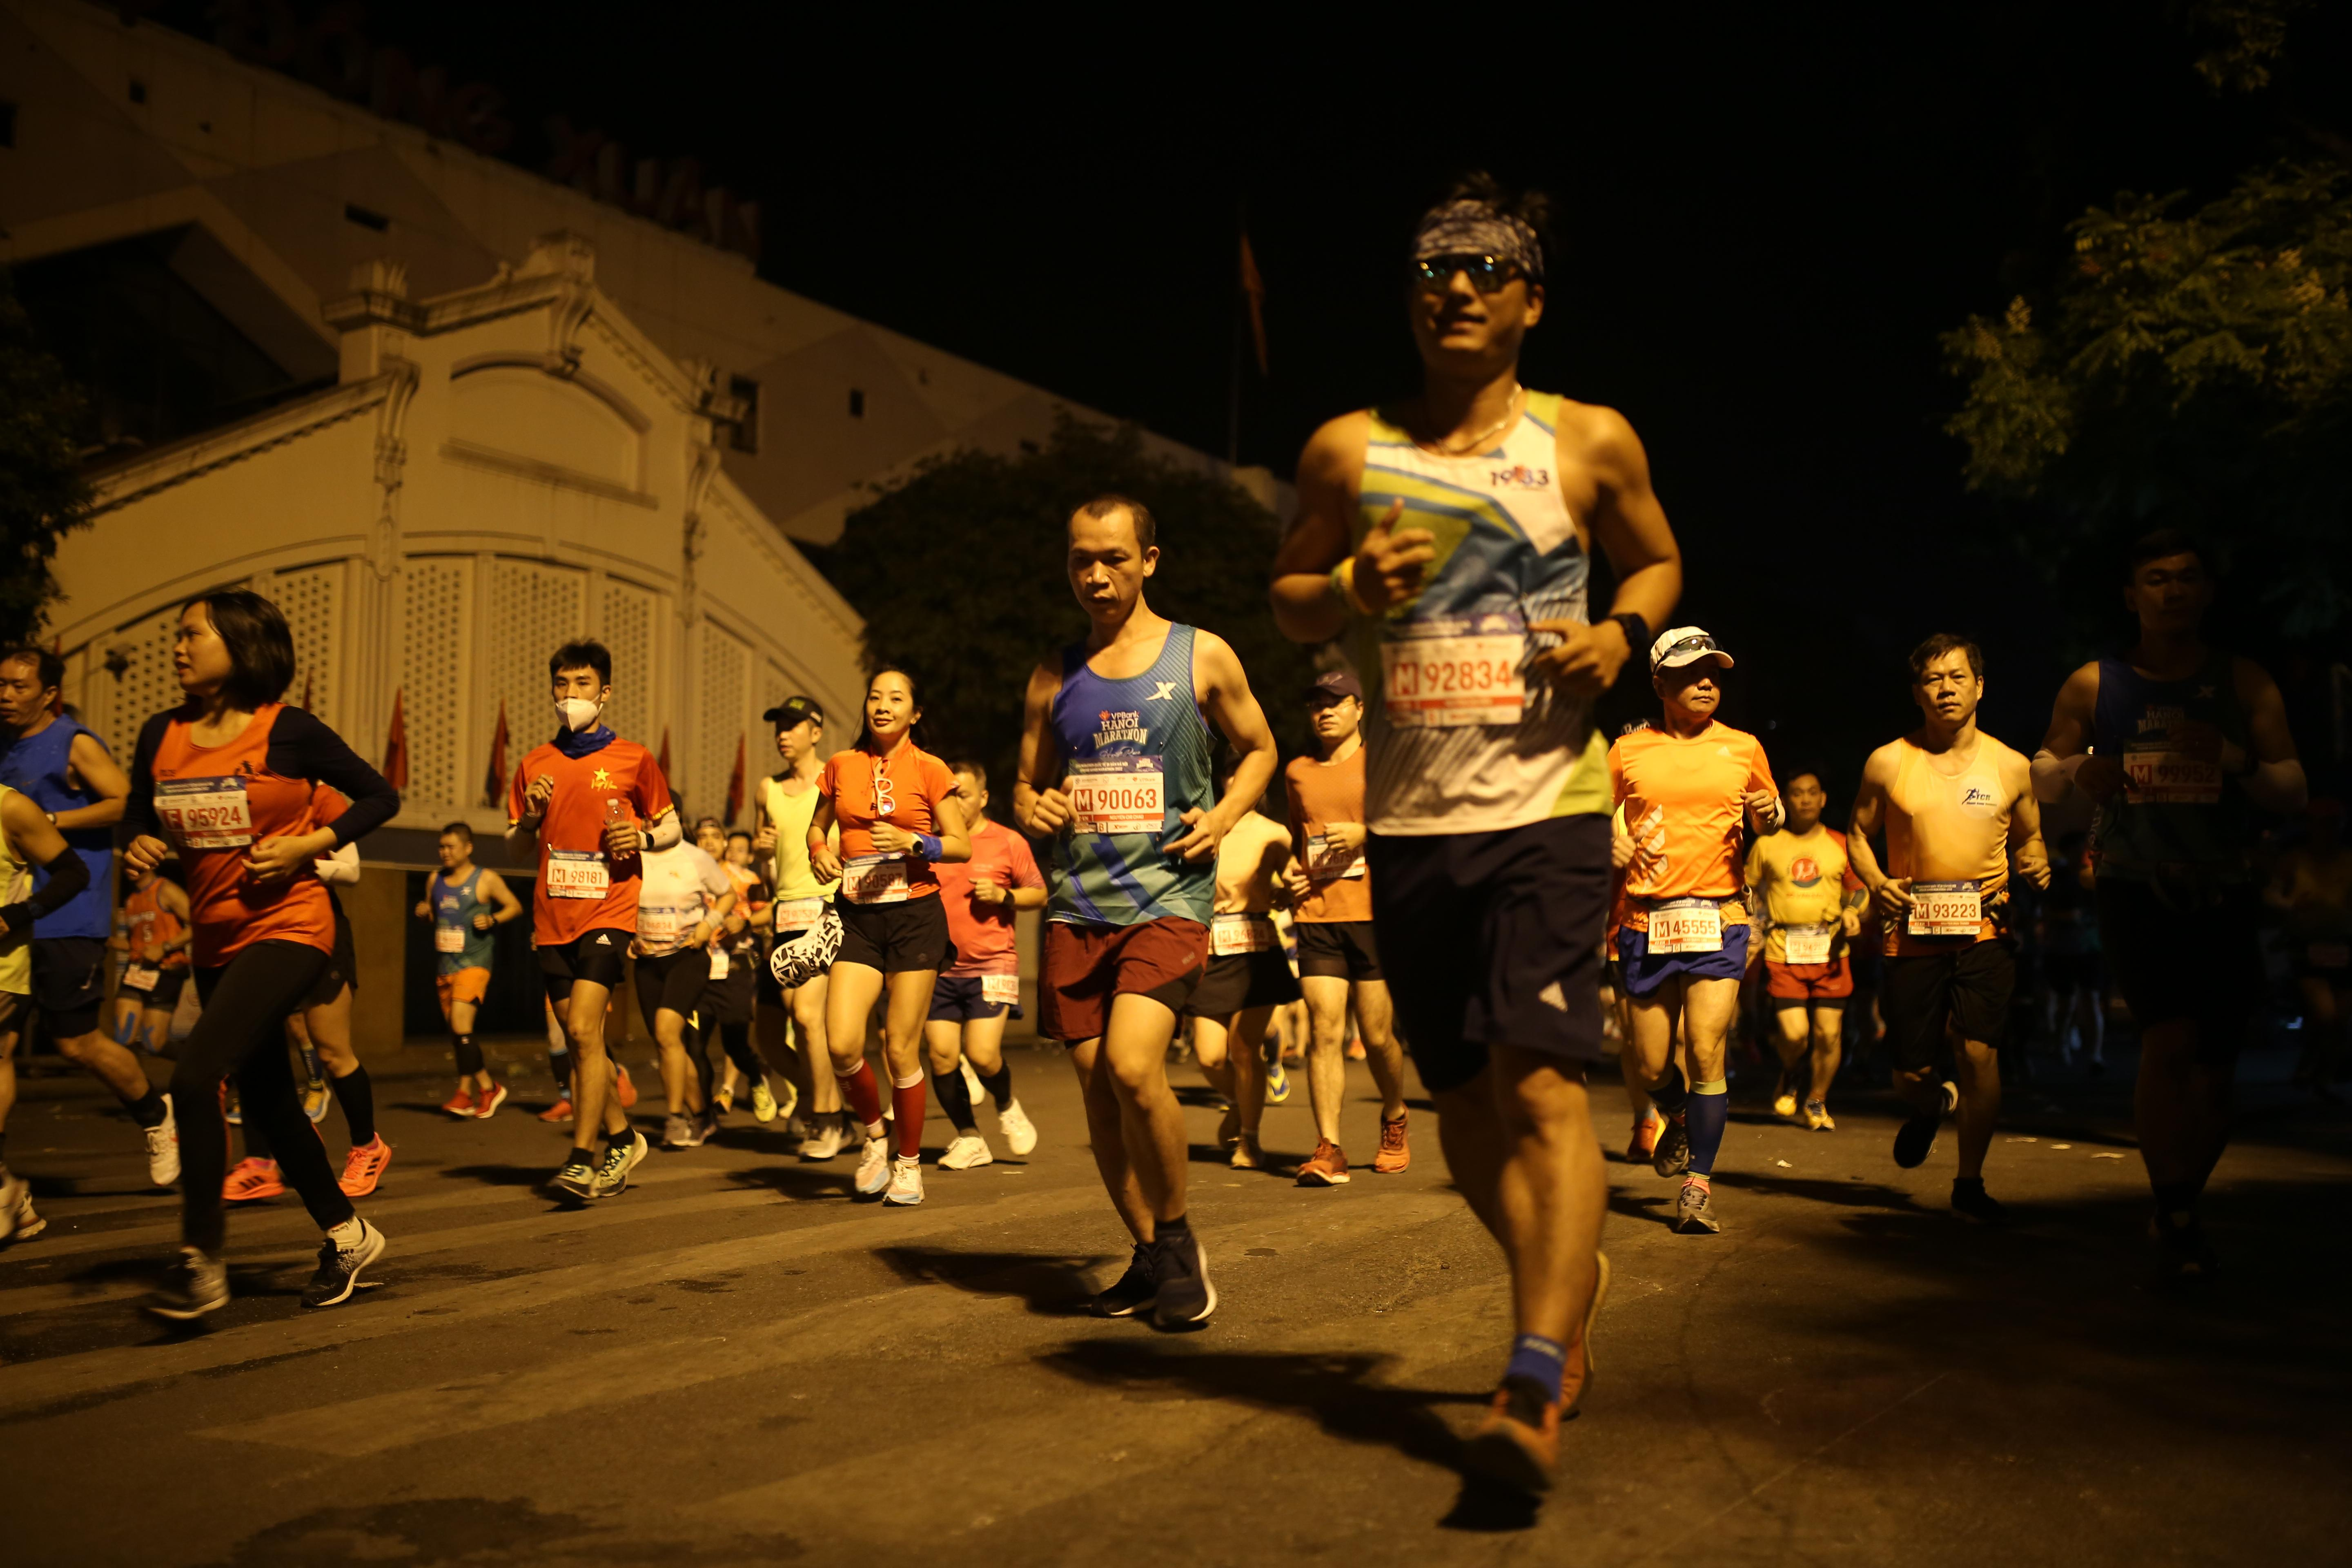bib: (1379, 616, 1526, 726), (149, 777, 254, 849), (1069, 756, 1164, 833), (2123, 742, 2222, 805), (1907, 880, 1983, 936), (1648, 896, 1724, 952), (546, 850, 611, 901), (843, 857, 908, 905), (1213, 915, 1270, 955), (1307, 836, 1365, 877), (1785, 926, 1832, 966), (982, 969, 1020, 1008), (635, 906, 674, 943), (775, 903, 822, 931), (436, 924, 465, 954)
